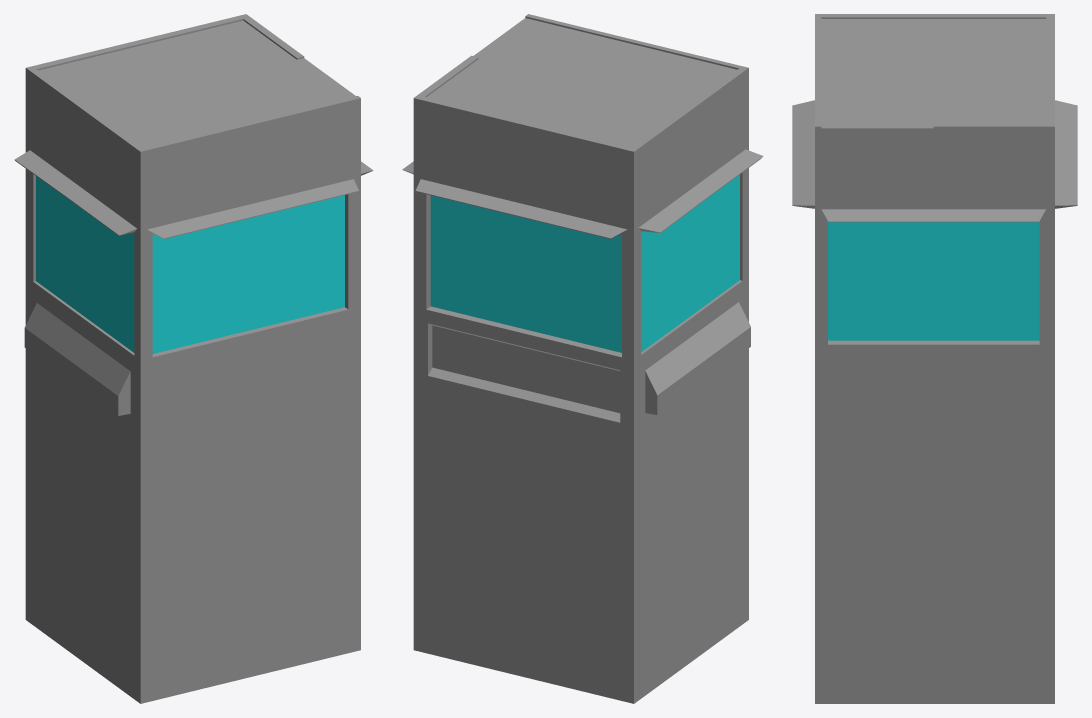
File: Building_Two.fbx
The picture shows the model from 3 angles, left to right: view 1: azimuth 30°, elevation 25°; view 2: azimuth 150°, elevation 25°; view 3: azimuth 270°, elevation 25°; orthographic projection. The views are drawn at different scales.
Parts seen in each view (by area): view 1: pCube2; view 2: pCube2; view 3: pCube2.
Boxes of the visible parts, left/top/right/bottom form: pCube2: left=14, top=14, right=373, bottom=703; pCube2: left=402, top=14, right=763, bottom=703; pCube2: left=792, top=14, right=1077, bottom=703.
Size of the model in its own units: 10.26 by 20.98 by 9.41.
